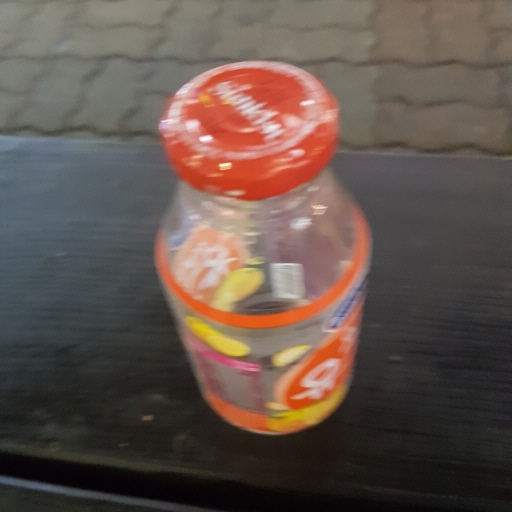Glass_4: (150, 56, 376, 437)
